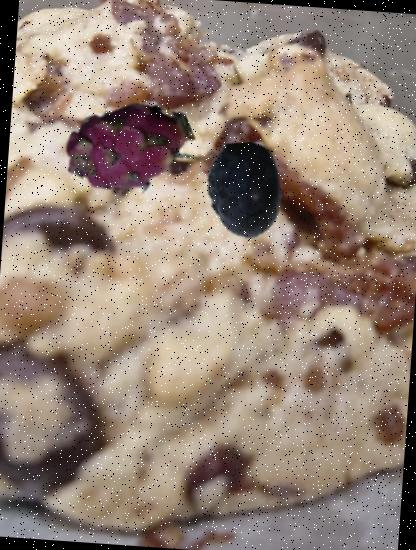Blueberry: (193, 140, 295, 242)
Pitahaya: (59, 76, 198, 216)
